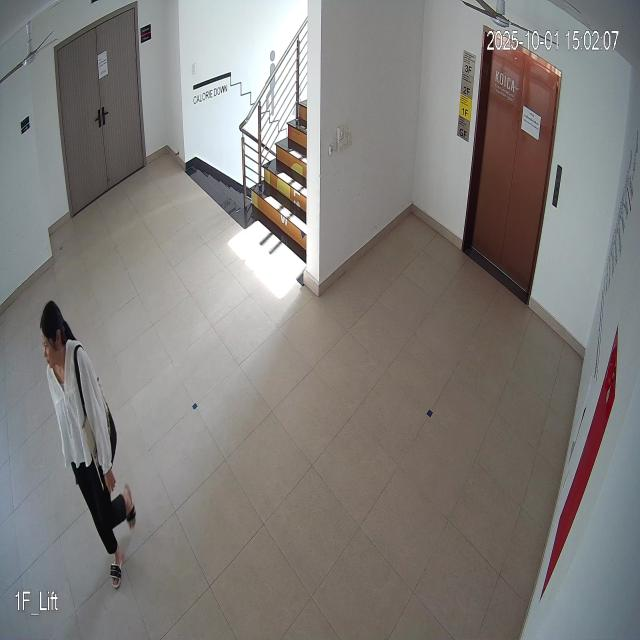face: (36, 292, 68, 372)
